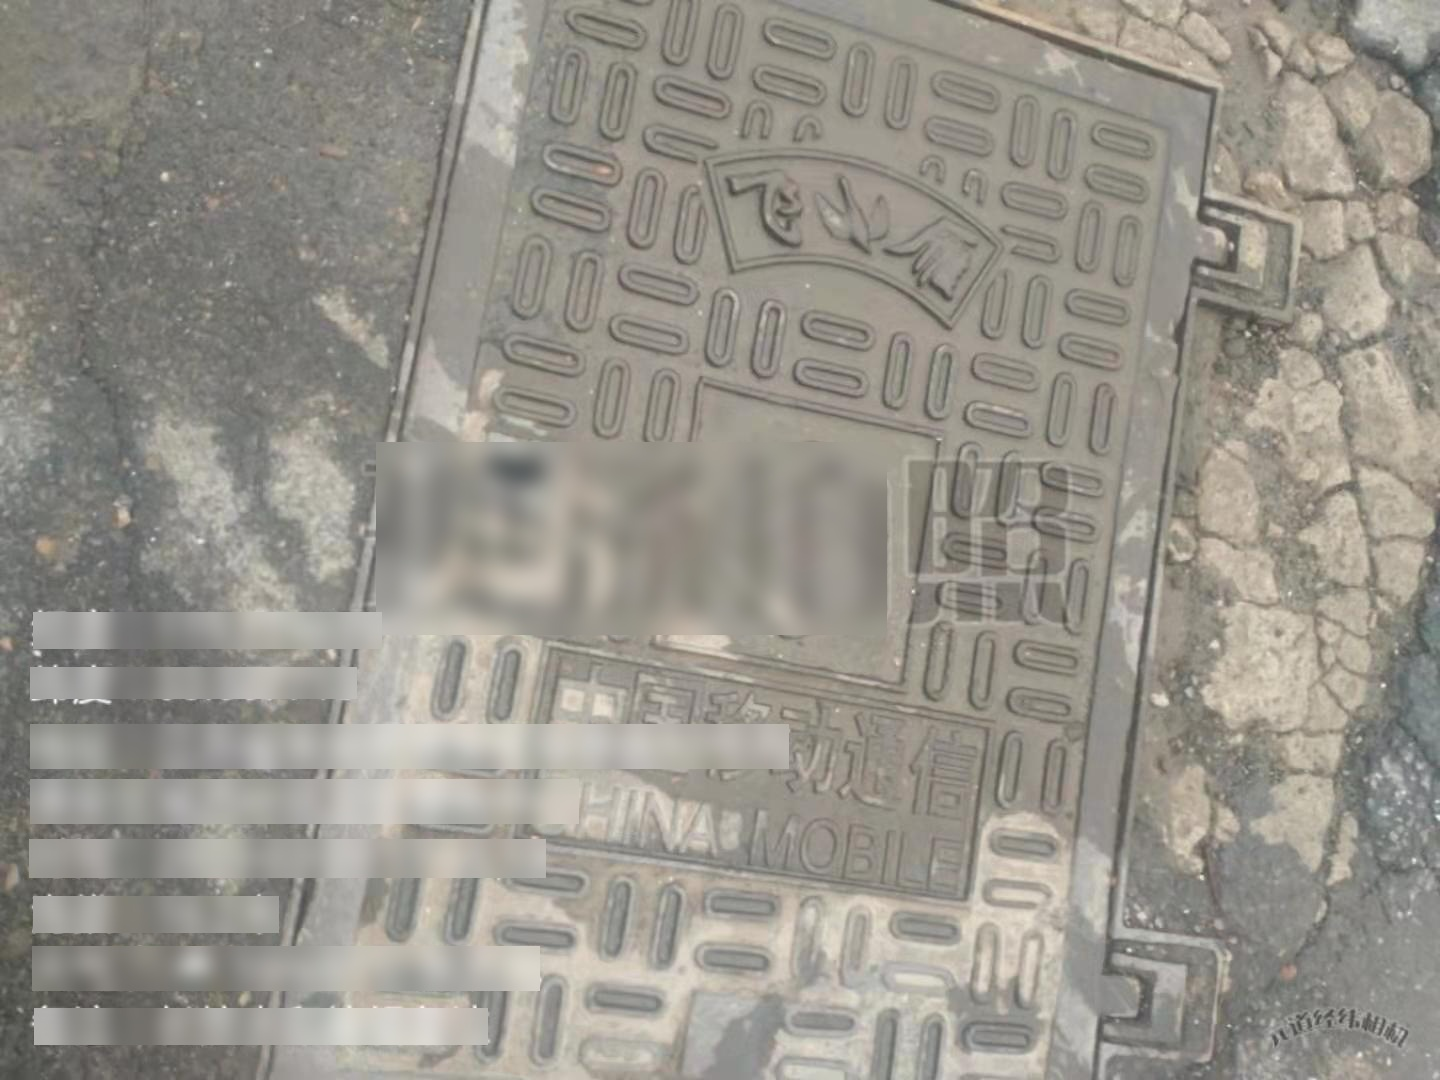good: (248, 5, 1304, 1080)
